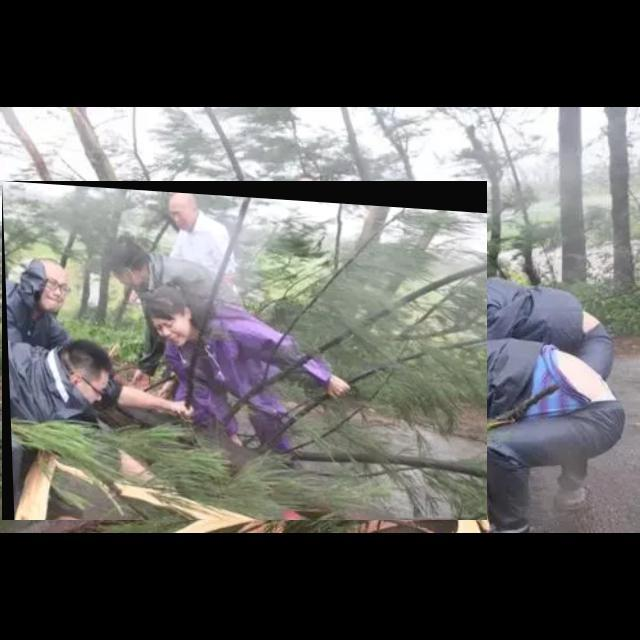fallen_tree: (2, 181, 488, 521)
